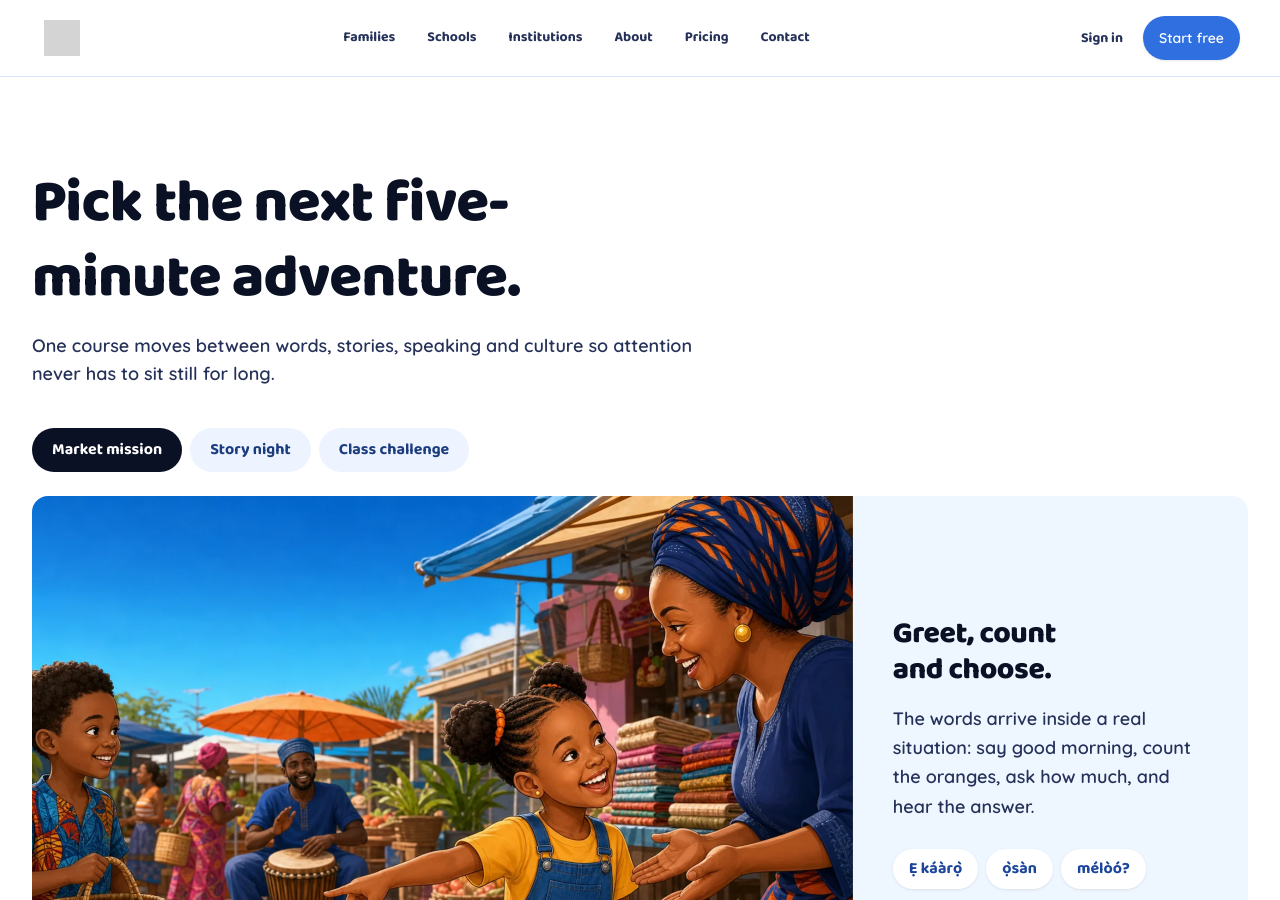
Test: landing concepts › V2 changes the visual story and content as adventures change
The image size is (1280, 900).
(page scrolled)
Click the tab "Story night": (250, 450) [190, 428, 311, 472]
(page scrolled)
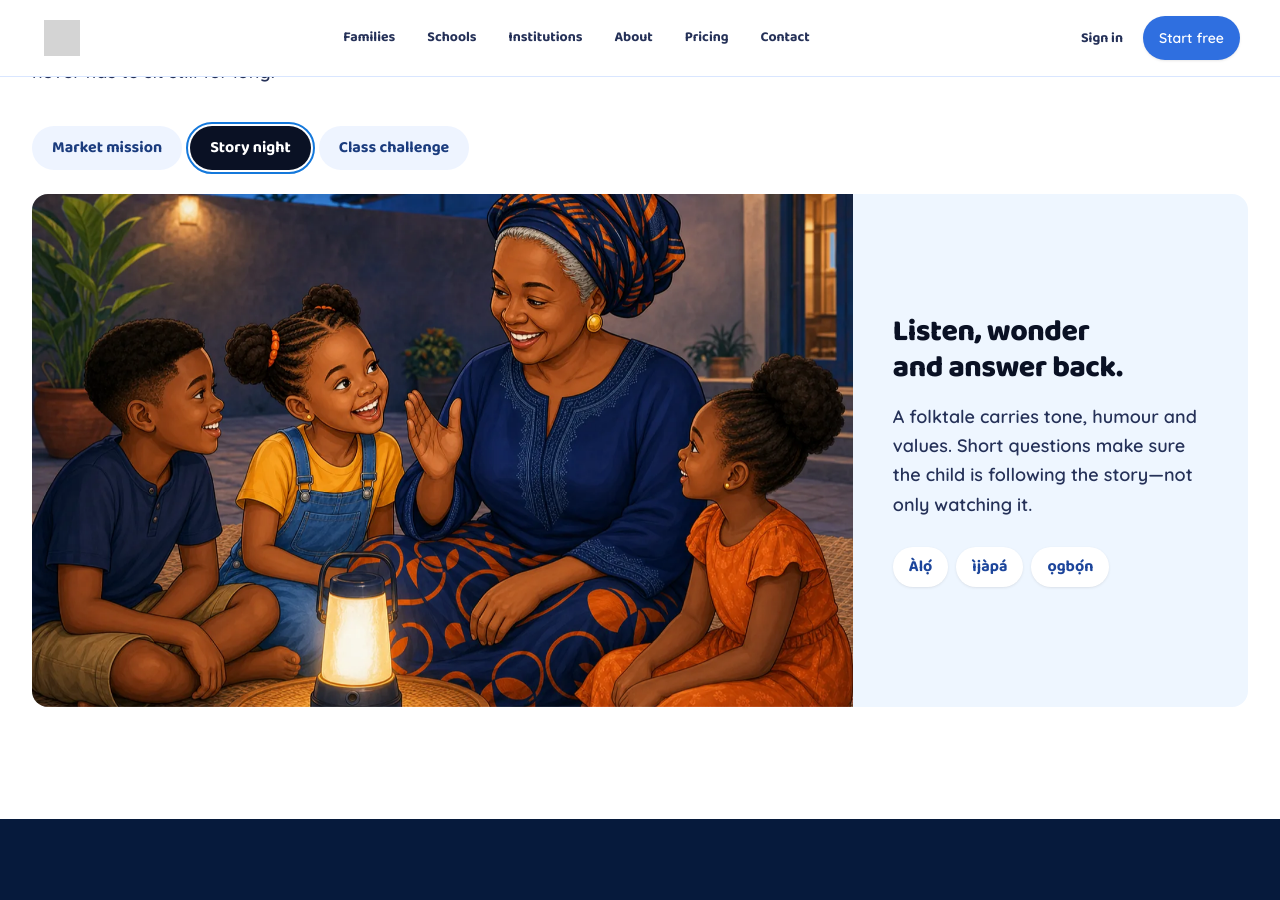
Expected: the heading "Listen, wonder and answer back." is shown, [893, 308, 1123, 392]
Expected: the picture named "folktale by lantern light" is shown, [32, 194, 853, 707]
